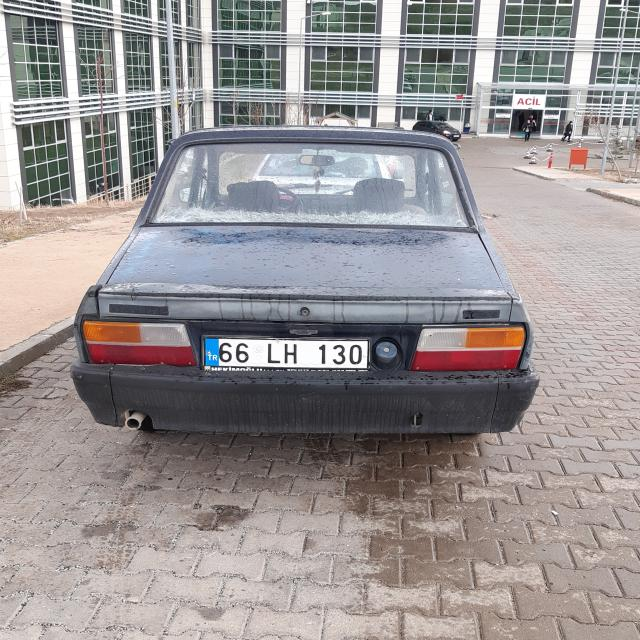license_plate: (203, 337, 370, 370)
